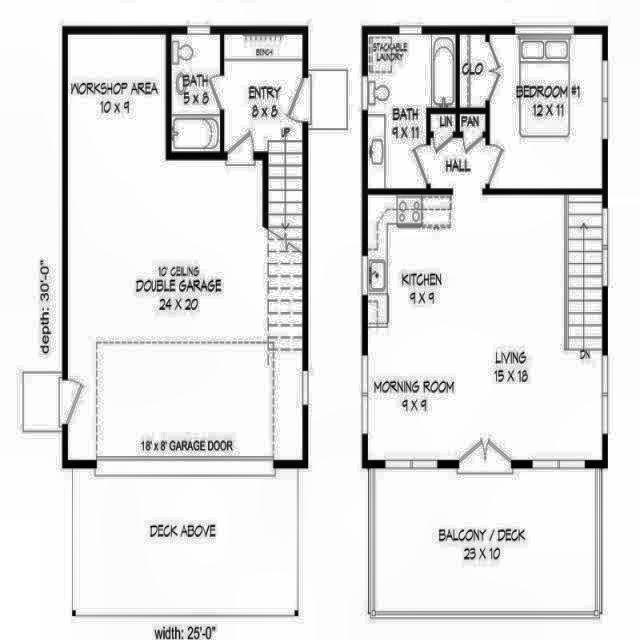room: (68, 34, 302, 461), (368, 195, 601, 460), (491, 35, 603, 187), (224, 34, 302, 216), (368, 35, 455, 190), (171, 36, 219, 151), (431, 139, 485, 187), (460, 35, 485, 107), (461, 116, 486, 131), (431, 115, 455, 130)
